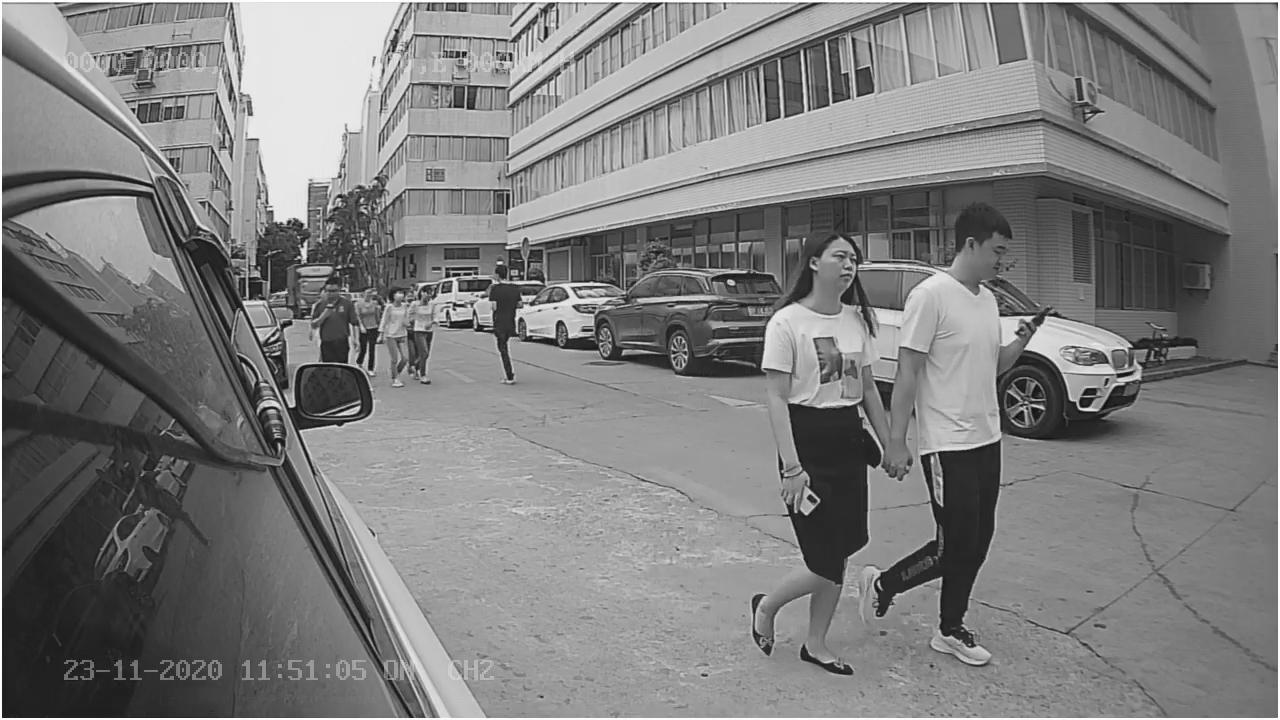person: (733, 229, 910, 681), (481, 260, 533, 388)
